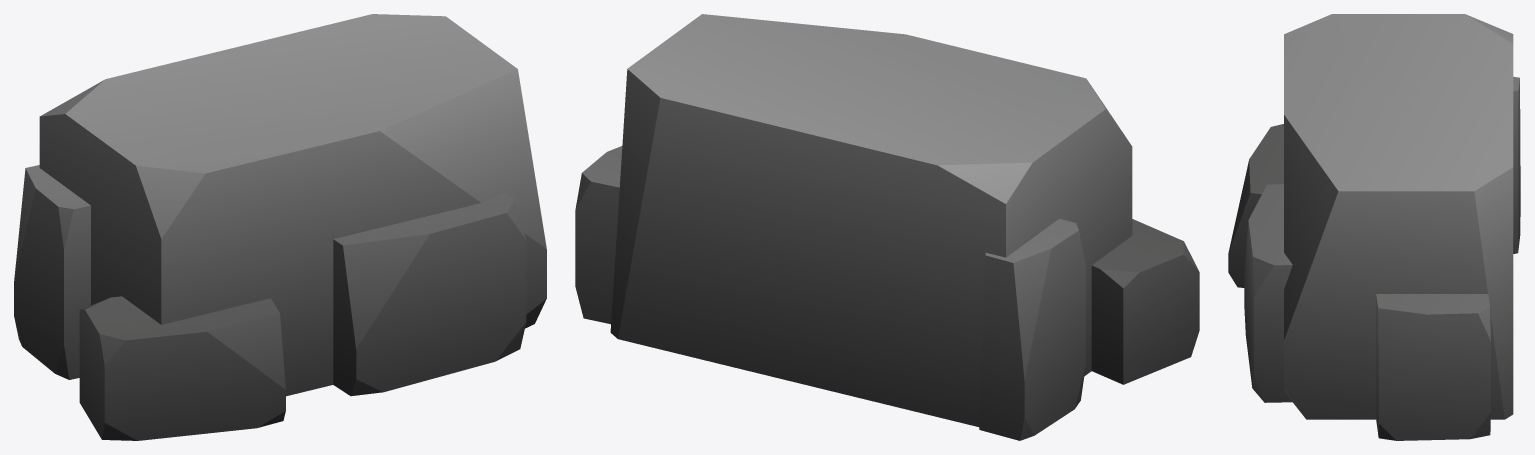
The model's file is SM_Rock_Big_03.fbx.
3 renders of one model, left to right at view 1: azimuth 30°, elevation 25°; view 2: azimuth 150°, elevation 25°; view 3: azimuth 270°, elevation 25°, orthographic. The views are drawn at different scales.
Visible parts, largest first — view 1: SM_Rock_Big_03; view 2: SM_Rock_Big_03; view 3: SM_Rock_Big_03.
Part boxes in pixels (x1,y1,x2,y2): SM_Rock_Big_03: (14, 14, 546, 440); SM_Rock_Big_03: (575, 14, 1199, 440); SM_Rock_Big_03: (1228, 14, 1520, 440).
Size of the model in its own units: 1152 by 541 by 627.
